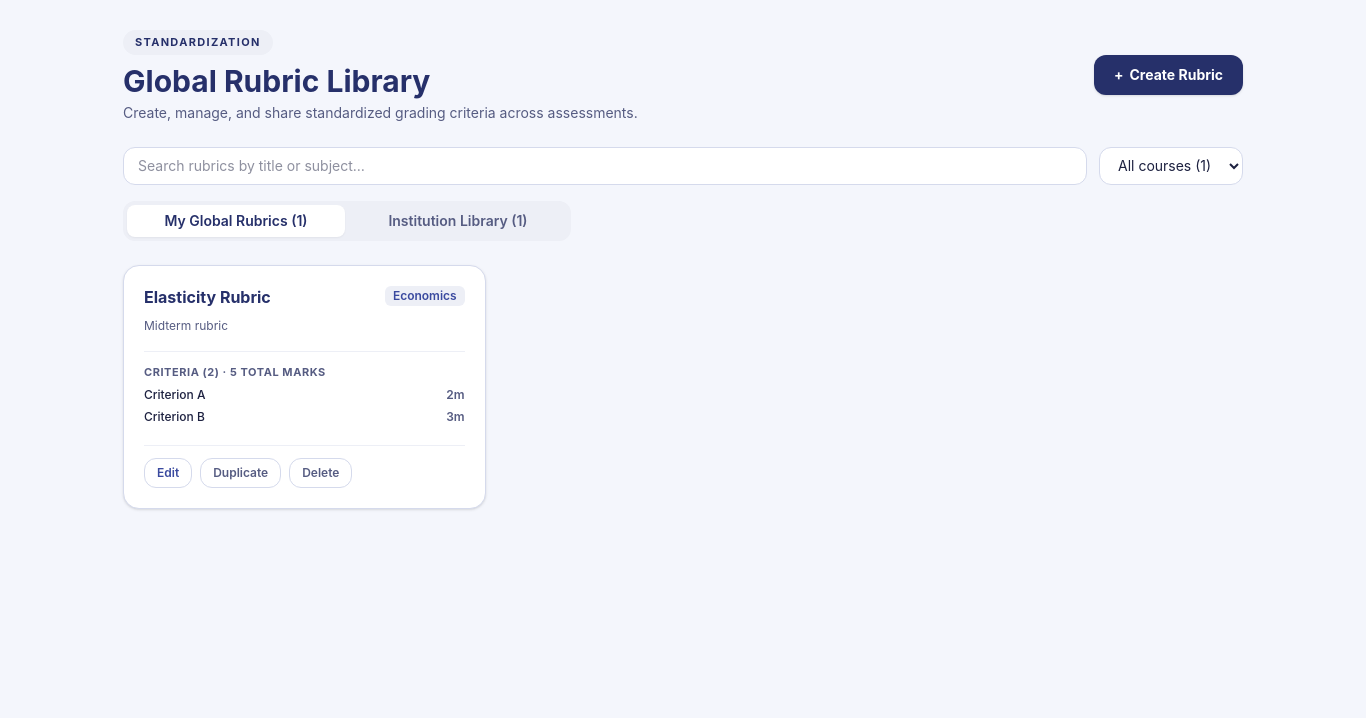
Test: RubricLibraryPage - Create & Edit Rubric Workflows › renders Create Rubric form with empty CourseSelector requiring course selection/entry
Click the button "+ Create Rubric".
click(1168, 75)  # box [1094,55,1243,95]
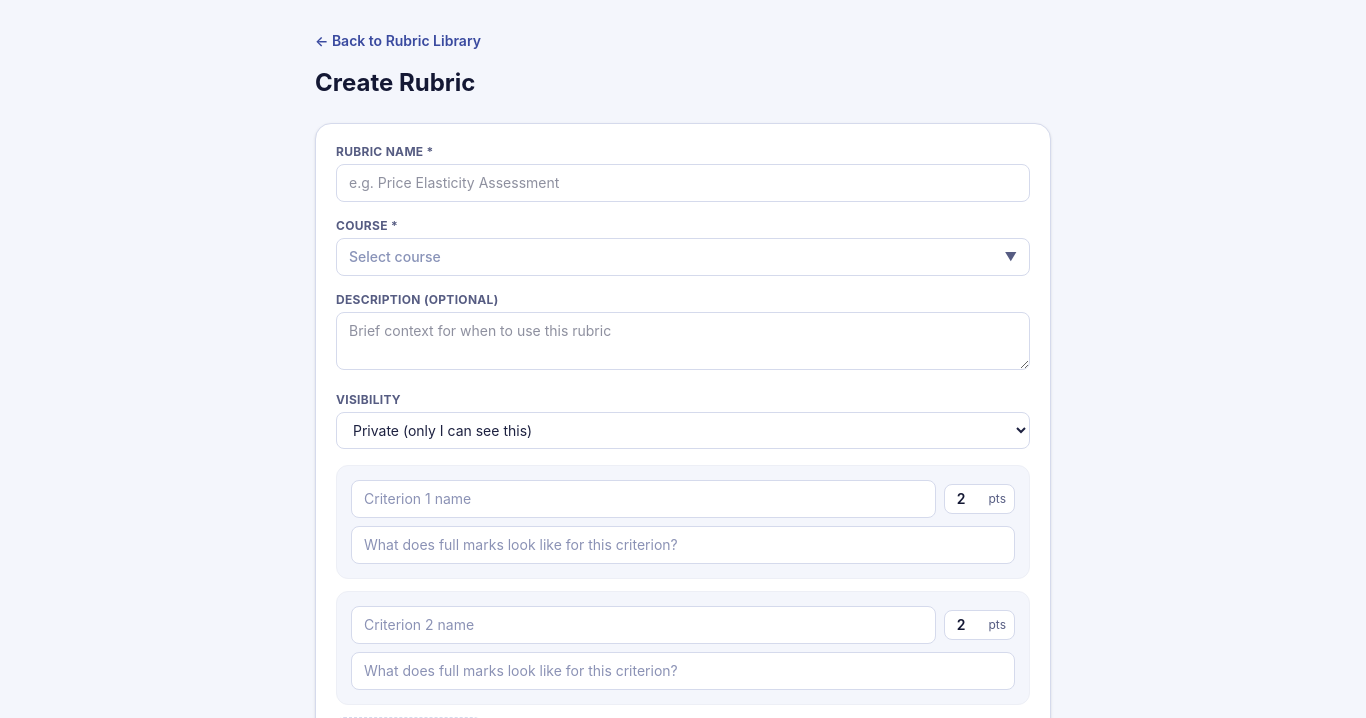
Now the heading "Create Rubric" is shown, box [315,68,475,97]
// Fill rubric name so validation reaches Course check
Type "Physics Mechanics Rubric" into the field labelled "Rubric name *".
click(683, 183); type("Physics Mechanics Rubric")  # box [336,164,1030,202]
(page scrolled)
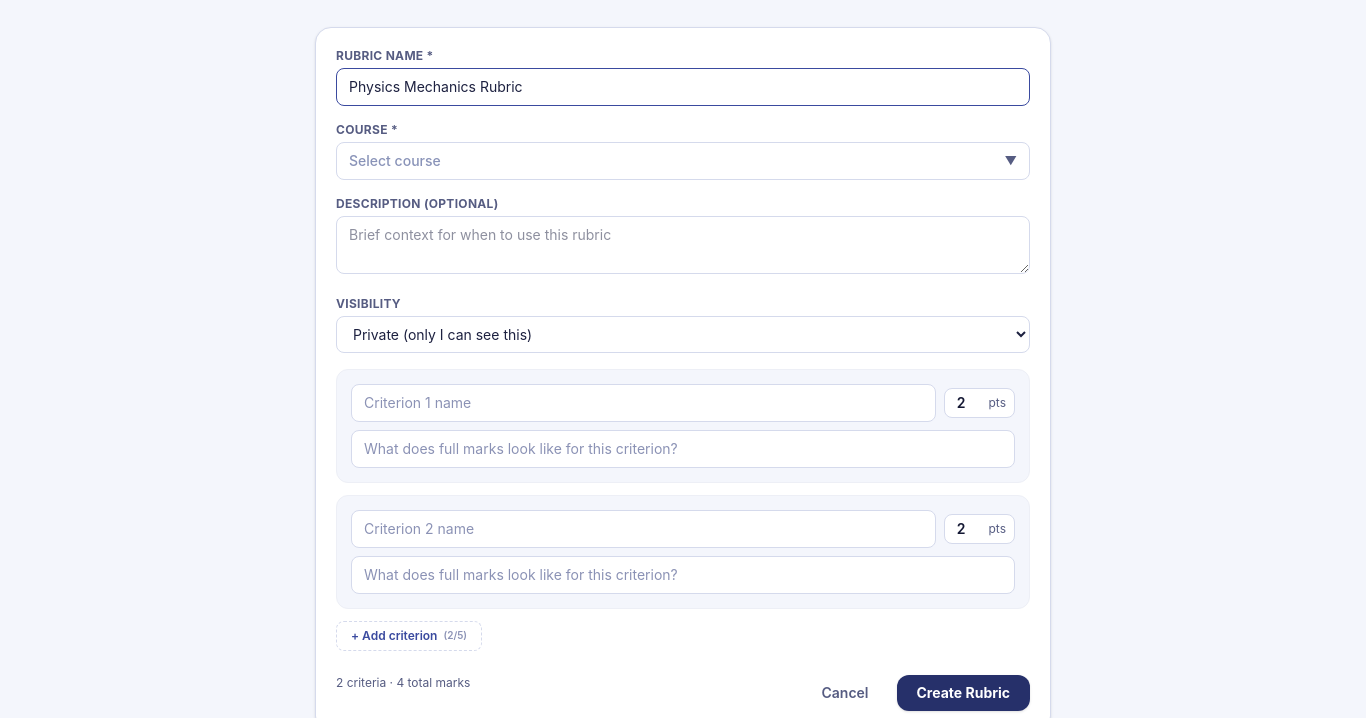
Now the button "Select course ▼" is shown, box [336,142,1030,180]
Click the button "Create Rubric".
click(963, 693)  # box [896,675,1030,711]
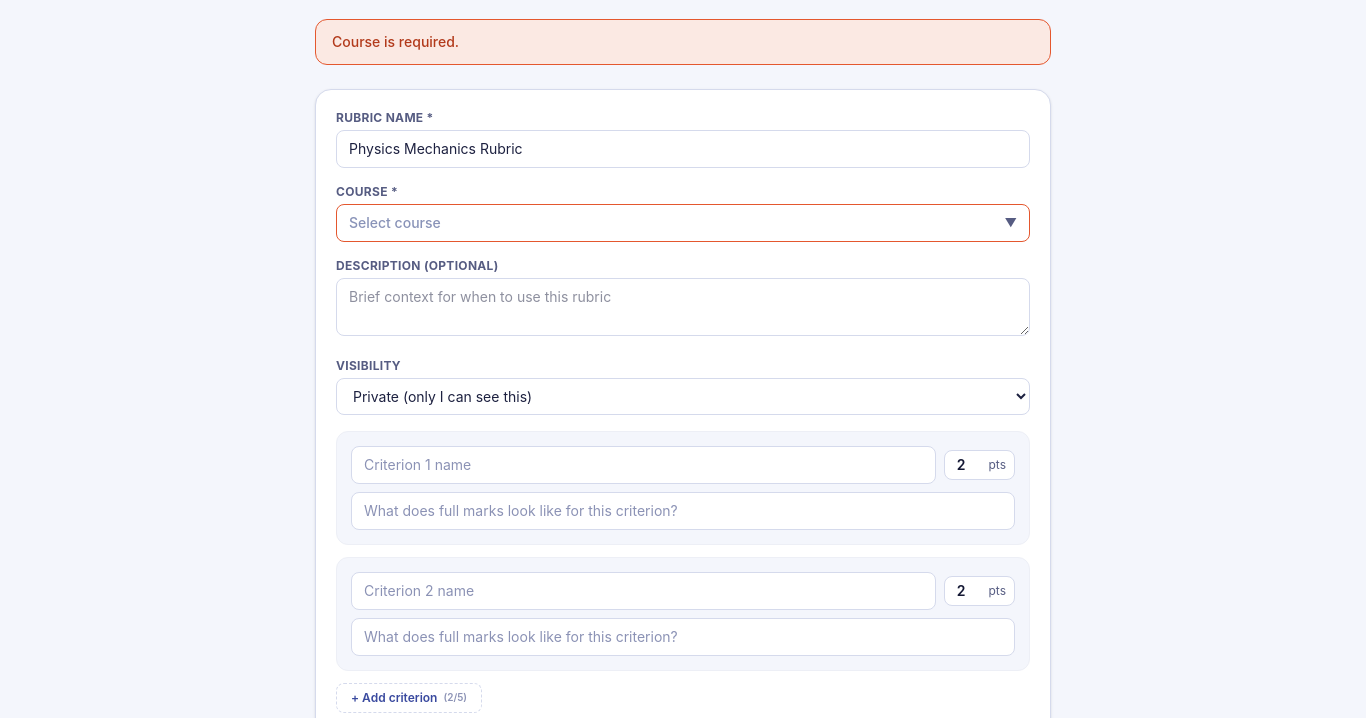
Now the text "Course is required." is shown, box [315,19,1051,65]
